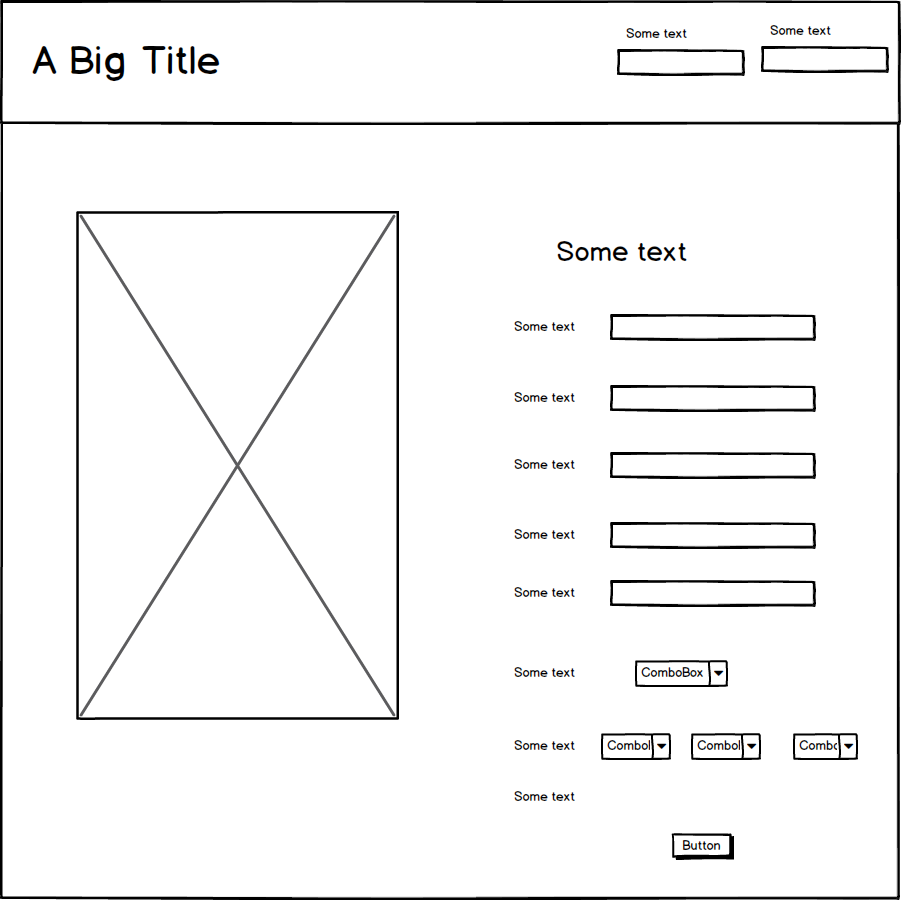button: (664, 826, 739, 867)
h1: (20, 28, 228, 93)
image: (67, 199, 407, 729)
input: (602, 377, 824, 418), (602, 514, 824, 555), (602, 308, 823, 348), (601, 444, 822, 484), (605, 575, 823, 612), (609, 43, 752, 82), (757, 43, 893, 78)
label: (505, 380, 586, 412), (508, 310, 585, 341), (505, 729, 579, 760), (505, 449, 579, 478), (507, 521, 586, 548), (505, 580, 586, 606), (511, 786, 581, 812), (508, 662, 583, 685)
select_box: (628, 651, 738, 695), (685, 726, 765, 769), (786, 726, 867, 767), (594, 726, 681, 764)
